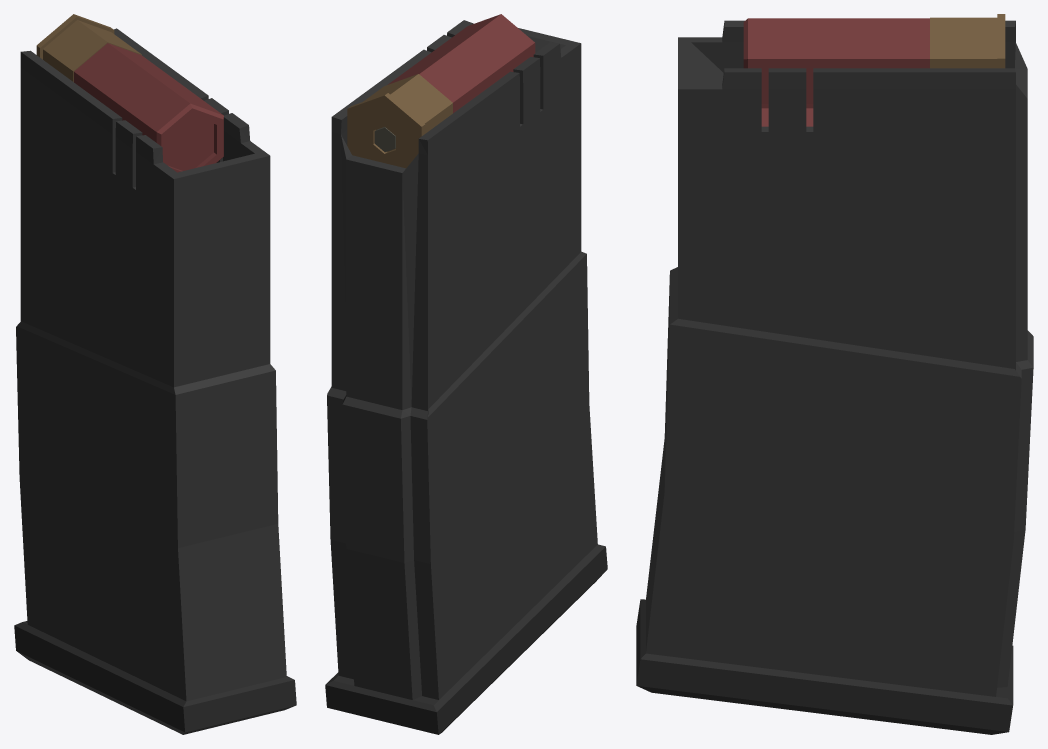
The model's file is SM_Genesis_Arms_Gen_12_Magazine.fbx.
3 renders of one model, left to right at view 1: azimuth 30°, elevation 25°; view 2: azimuth 150°, elevation 25°; view 3: azimuth 270°, elevation 25°, orthographic. The views are drawn at different scales.
Parts seen in each view (by area): view 1: SM_Genesis_Arms_Gen_12_Magazine; view 2: SM_Genesis_Arms_Gen_12_Magazine; view 3: SM_Genesis_Arms_Gen_12_Magazine.
Part boxes in pixels (x1,y1,x2,y2): SM_Genesis_Arms_Gen_12_Magazine: (14,14,296,734); SM_Genesis_Arms_Gen_12_Magazine: (325,14,607,734); SM_Genesis_Arms_Gen_12_Magazine: (636,14,1033,734).
Bounding box in the file's own units: 3.08 × 16.62 × 8.63.
